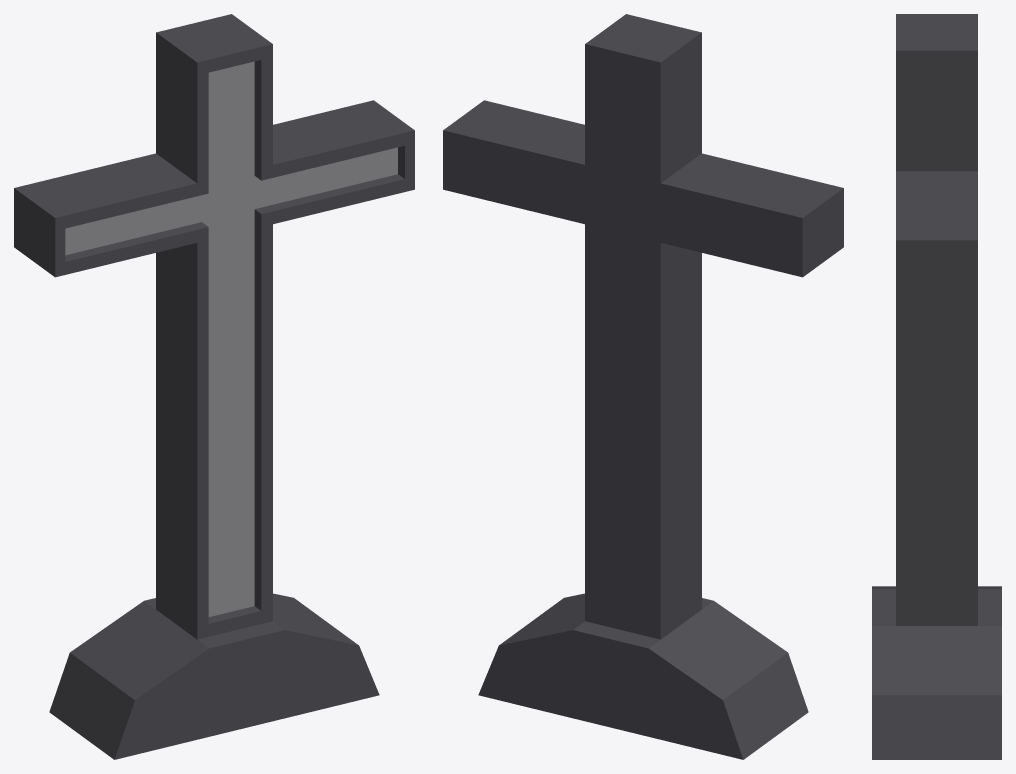
3 views of the same model, side by side, from view 1: azimuth 30°, elevation 25°; view 2: azimuth 150°, elevation 25°; view 3: azimuth 270°, elevation 25° (orthographic).
Visible parts, largest first — view 1: TombStone04; view 2: TombStone04; view 3: TombStone04.
Boxes of the visible parts, <box> form: TombStone04: <box>14,14,414,759</box>; TombStone04: <box>443,14,843,759</box>; TombStone04: <box>872,14,1001,759</box>.
Size of what is drawn, in the model's own units: 0.9237 by 1.63 by 0.29.
1 material, 1 textured.
